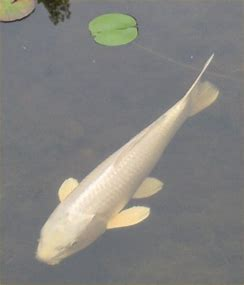white: (34, 53, 222, 265)
